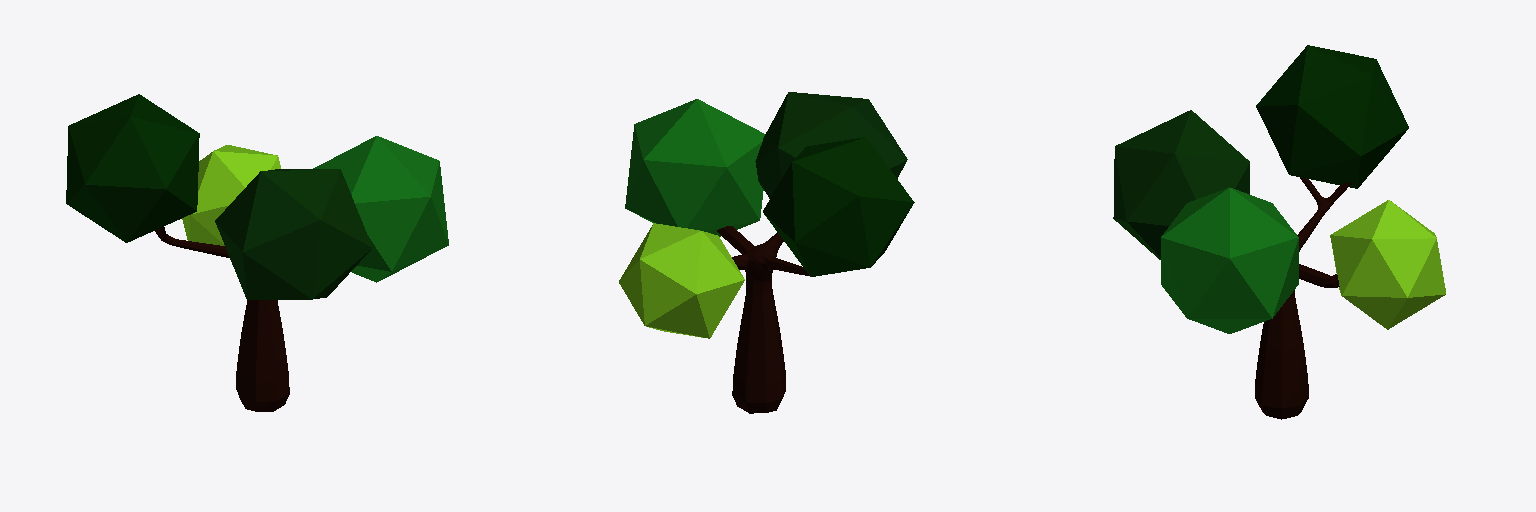
File: polytree4.obj
3 views of the same model, side by side, from view 1: azimuth 30°, elevation 25°; view 2: azimuth 150°, elevation 25°; view 3: azimuth 270°, elevation 25° (orthographic).
Visible parts, largest first — view 1: Icosphere.001_Icosphere.003, Icosphere.002_Icosphere.004, Icosphere_Icosphere.002, Cube, Icosphere.004_Icosphere.006; view 2: Icosphere_Icosphere.002, Icosphere.002_Icosphere.004, Icosphere.004_Icosphere.006, Cube, Icosphere.001_Icosphere.003; view 3: Icosphere_Icosphere.002, Icosphere.002_Icosphere.004, Icosphere.001_Icosphere.003, Icosphere.004_Icosphere.006, Cube.
Boxes of the visible parts, x1=… form: Icosphere.001_Icosphere.003: x1=215, y1=169, x2=372, y2=299; Icosphere.002_Icosphere.004: x1=66, y1=94, x2=199, y2=242; Icosphere_Icosphere.002: x1=313, y1=136, x2=448, y2=282; Cube: x1=155, y1=227, x2=289, y2=411; Icosphere.004_Icosphere.006: x1=182, y1=145, x2=280, y2=245; Icosphere_Icosphere.002: x1=625, y1=99, x2=764, y2=236; Icosphere.002_Icosphere.004: x1=763, y1=137, x2=914, y2=276; Icosphere.004_Icosphere.006: x1=619, y1=223, x2=744, y2=338; Cube: x1=717, y1=226, x2=809, y2=413; Icosphere.001_Icosphere.003: x1=755, y1=92, x2=907, y2=198; Icosphere_Icosphere.002: x1=1161, y1=187, x2=1298, y2=333; Icosphere.002_Icosphere.004: x1=1256, y1=45, x2=1408, y2=188; Icosphere.001_Icosphere.003: x1=1113, y1=110, x2=1249, y2=259; Icosphere.004_Icosphere.006: x1=1330, y1=200, x2=1445, y2=329; Cube: x1=1255, y1=177, x2=1351, y2=419.
Size of the model in its own units: 6.43 by 6.06 by 5.85.